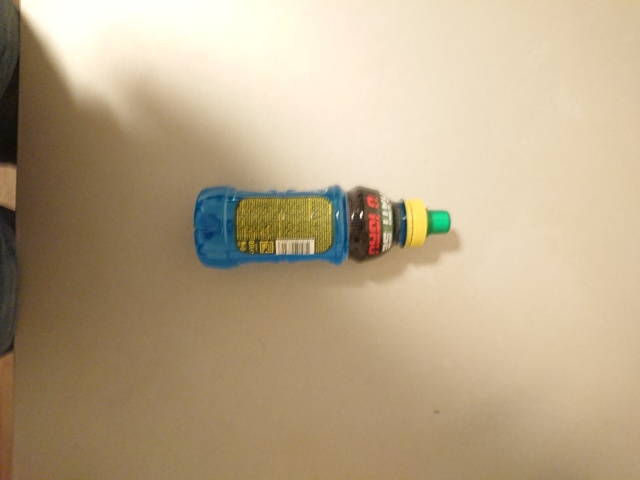Vindi Iso Sport Forest Strawberries 500mL: (192, 183, 452, 270)
